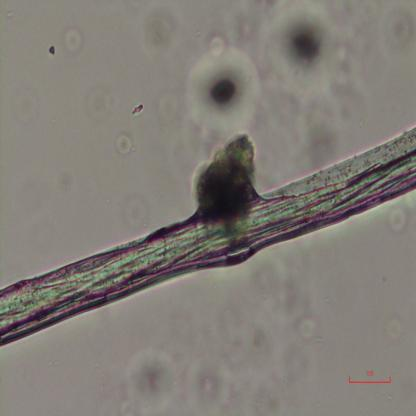Background material: (122, 300, 320, 415), (183, 43, 262, 135), (262, 4, 340, 93), (188, 130, 257, 219), (240, 246, 327, 313), (324, 4, 378, 100), (295, 92, 346, 171), (116, 182, 159, 234), (141, 3, 184, 54), (81, 77, 119, 128), (379, 5, 416, 53), (191, 13, 235, 52), (159, 79, 188, 131), (18, 72, 44, 126), (384, 194, 416, 235), (50, 155, 76, 193), (114, 128, 138, 157), (384, 316, 406, 345), (64, 26, 84, 56), (0, 7, 20, 19), (131, 101, 145, 117), (46, 43, 58, 59)
Microfibre: (0, 125, 416, 347)
